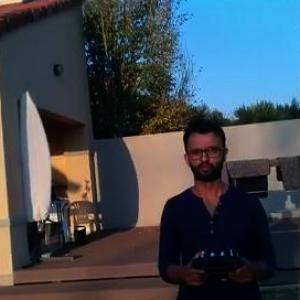follow: (152, 108, 281, 299)
